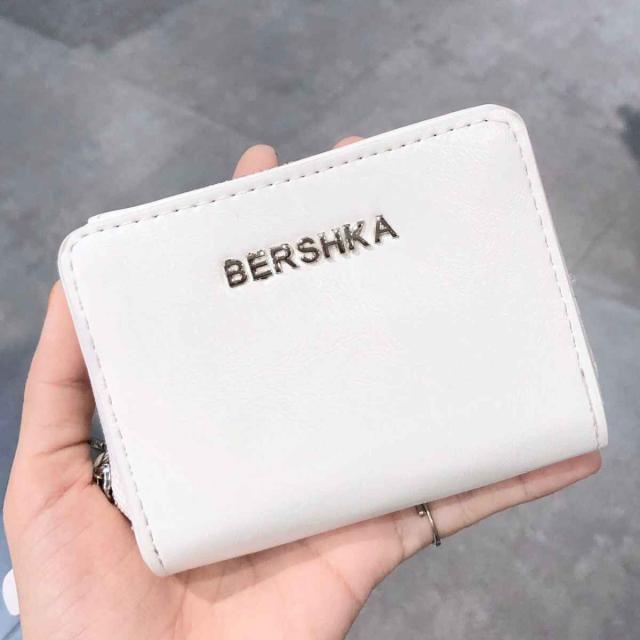handbag: (61, 106, 604, 577)
